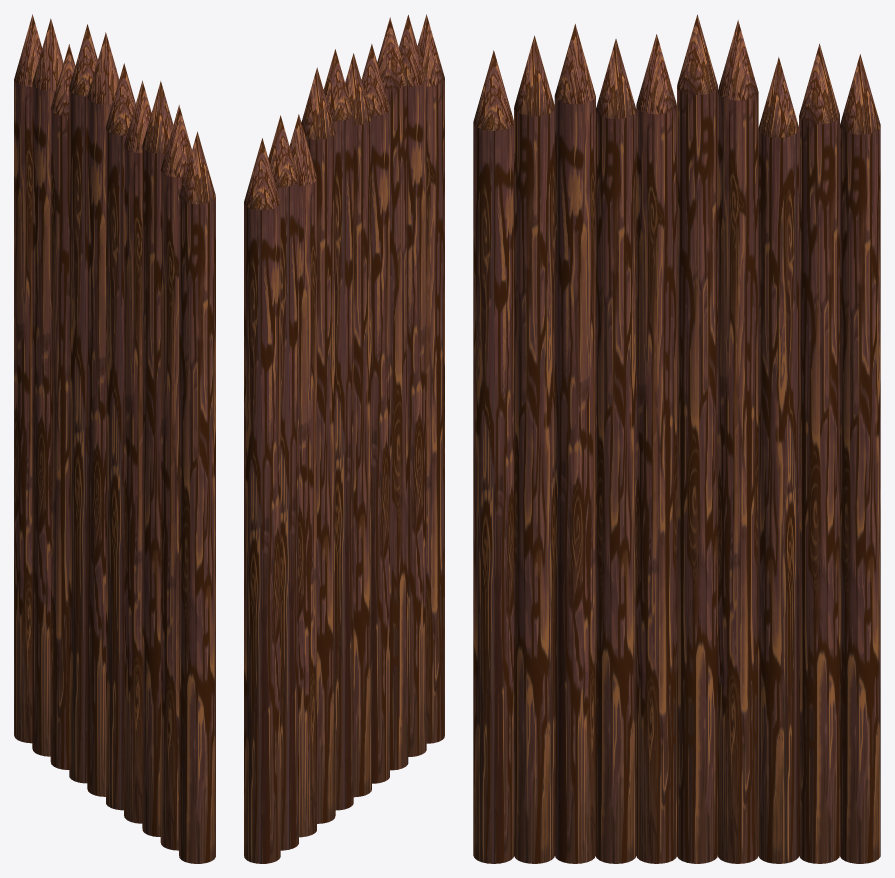
The model's file is wood out wall.fbx.
The picture shows the model from 3 angles, left to right: view 1: azimuth 30°, elevation 25°; view 2: azimuth 150°, elevation 25°; view 3: azimuth 270°, elevation 25°; orthographic projection. The views are drawn at different scales.
Parts seen in each view (by area): view 1: Cylinder_0, Cylinder_5, Cylinder_2, Cylinder_6, Cylinder_1, Cylinder_8, Cylinder_7, Cylinder_3, Cylinder_9, Cylinder_4; view 2: Cylinder_9, Cylinder_6, Cylinder_5, Cylinder_2, Cylinder_8, Cylinder_1, Cylinder_4, Cylinder_0, Cylinder_3, Cylinder_7; view 3: Cylinder_6, Cylinder_5, Cylinder_3, Cylinder_2, Cylinder_4, Cylinder_1, Cylinder_8, Cylinder_0, Cylinder_9, Cylinder_7.
Boxes of the visible parts, x1,y1,x2,y2 form: Cylinder_0: (179,131,215,863); Cylinder_5: (87,32,119,796); Cylinder_2: (142,81,173,836); Cylinder_6: (69,24,97,783); Cylinder_1: (160,105,191,850); Cylinder_8: (32,18,63,756); Cylinder_7: (50,44,75,769); Cylinder_3: (124,80,151,823); Cylinder_9: (14,14,42,743); Cylinder_4: (106,63,135,810); Cylinder_9: (244,138,280,863); Cylinder_6: (301,67,335,823); Cylinder_5: (323,49,353,810); Cylinder_2: (377,17,408,770); Cylinder_8: (268,115,298,850); Cylinder_1: (399,15,426,756); Cylinder_4: (345,53,371,797); Cylinder_0: (417,14,444,743); Cylinder_3: (361,44,389,783); Cylinder_7: (289,114,316,837); Cylinder_6: (717,20,758,863); Cylinder_5: (677,14,717,863); Cylinder_3: (595,39,636,863); Cylinder_2: (554,24,595,863); Cylinder_4: (636,34,676,863); Cylinder_1: (514,35,554,863); Cylinder_8: (799,43,839,863); Cylinder_0: (473,50,513,863); Cylinder_9: (840,54,880,863); Cylinder_7: (758,57,798,863).
Bounding box in the file's own units: 20 × 451 × 198.
Materials: 1 (1 with a texture image).
